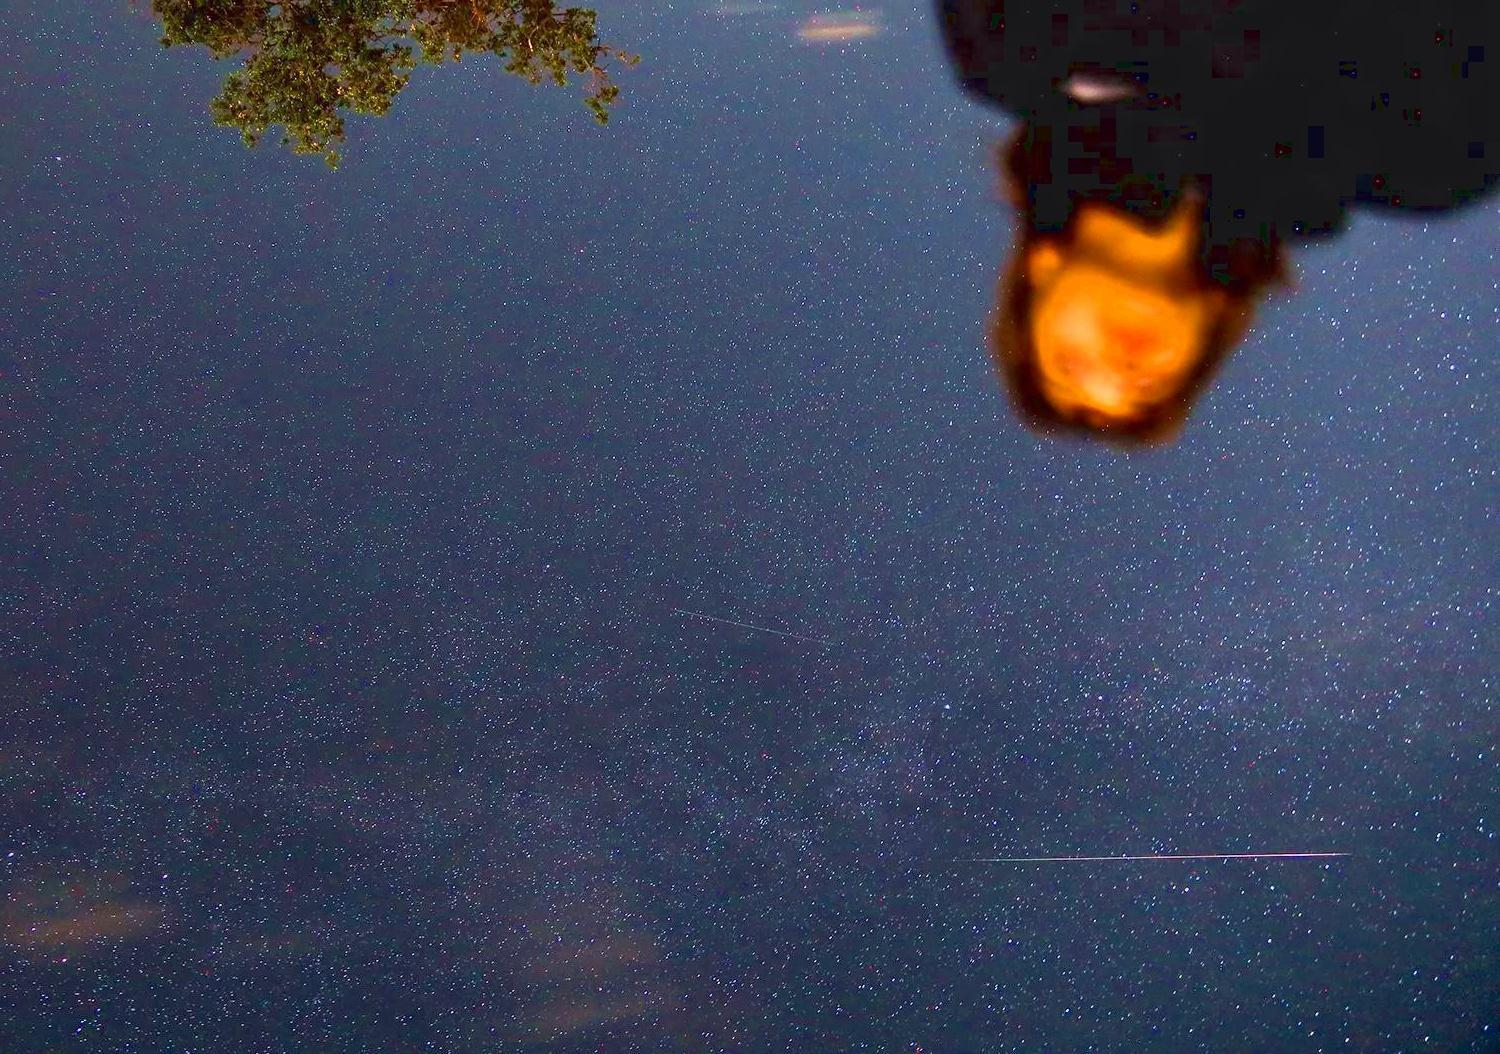meteorite: (649, 598, 858, 655), (937, 843, 1370, 868)
